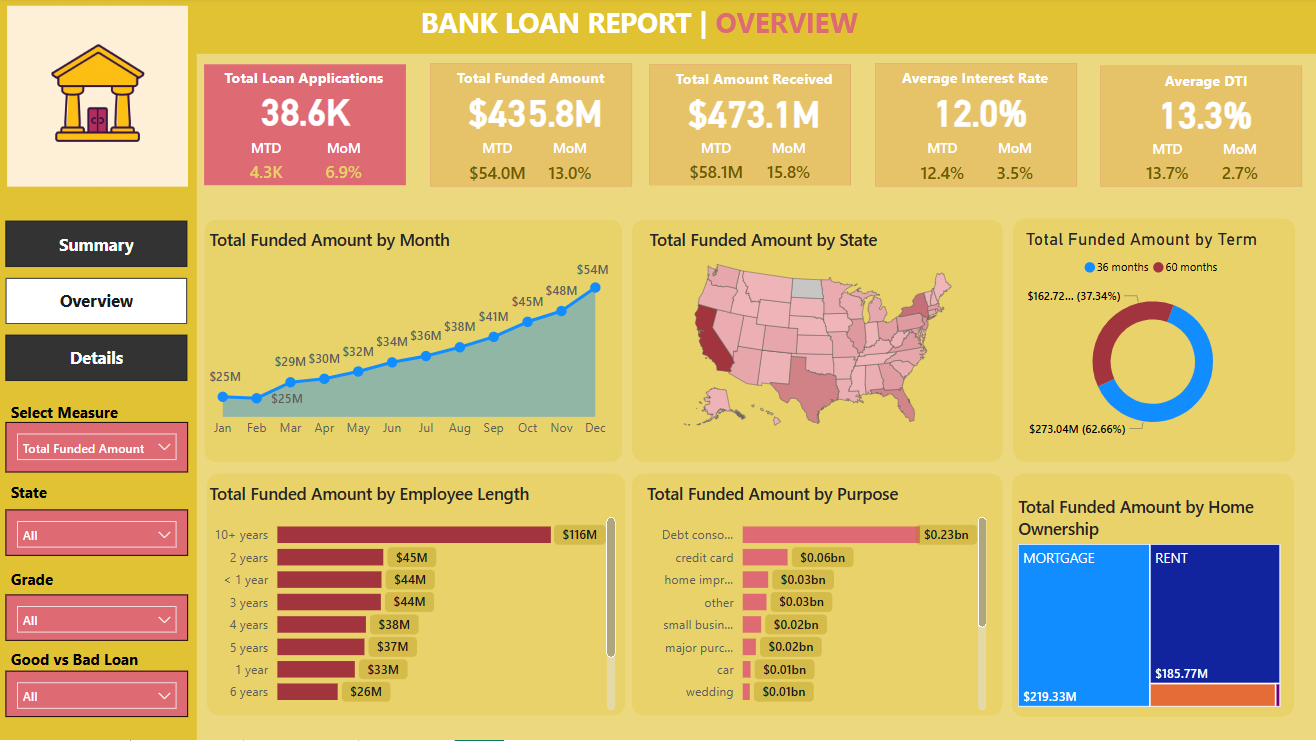

The dashboard page shown, as its layout file describes it:
{"tool":"powerbi","page":{"name":"Overview","canvas":[1280,720],"ordinal":1},"visuals":[{"type":"shape","box":[0,0,1280.3,55],"z":0},{"type":"shape","box":[418.8,64.2,195,119.3],"z":0,"group":"g2"},{"type":"shape","box":[849.8,64.2,195,119.3],"z":0,"group":"g4"},{"type":"shape","box":[199.7,65.3,195,117],"z":0,"group":"g1"},{"type":"shape","box":[630.7,65.5,195,117],"z":0,"group":"g3"},{"type":"shape","box":[1067.7,66.6,195,117],"z":0,"group":"g5"},{"type":"shape","box":[0,54.5,192.5,665.8],"z":1000},{"type":"card","fields":{"Values":["bank_loan_data.Total Loan Applications"]},"box":[231.2,81.1,133.2,55.7],"z":1000,"group":"g1"},{"type":"card","fields":{"Values":["bank_loan_data.Total Funded Amount"]},"box":[449.9,83.9,140.4,53.1],"z":1000,"group":"g2"},{"type":"card","fields":{"Values":["bank_loan_data.Average Interest Rate"]},"box":[880.9,83.9,140.4,53.1],"z":1000,"group":"g4"},{"type":"card","fields":{"Values":["bank_loan_data.Total Amount Received"]},"box":[661.8,84.8,140.4,52.1],"z":1000,"group":"g3"},{"type":"card","fields":{"Values":["bank_loan_data.AVG DTI"]},"box":[1098.8,85.9,140.4,52.1],"z":1000,"group":"g5"},{"type":"textbox","box":[214.2,62.9,180.4,35.1],"z":2000,"group":"g1"},{"type":"textbox","box":[439,62.9,180.4,35.8],"z":2000,"group":"g2"},{"type":"textbox","box":[870,62.9,180.4,35.8],"z":2000,"group":"g4"},{"type":"textbox","box":[650.9,64.2,180.4,35.1],"z":2000,"group":"g3"},{"type":"textbox","box":[1115.5,67.1,110.2,30.3],"z":2000,"group":"g5"},{"type":"shape","box":[199.7,215.5,405,235],"z":2000},{"type":"textbox","box":[404.3,1.2,472.1,53.3],"z":3000},{"type":"card","title":"MTD","fields":{"Values":["bank_loan_data.MTD Loan Applications"]},"box":[230.6,136.7,56.9,52.1],"z":3000,"group":"g1"},{"type":"card","title":"MTD","fields":{"Values":["bank_loan_data.MTD Amount Received"]},"box":[661.8,136.8,66.6,52.1],"z":3000,"group":"g3"},{"type":"card","title":"MTD","fields":{"Values":["bank_loan_data.MTD Funded Amount"]},"box":[449.9,136.9,66.6,53.1],"z":3000,"group":"g2"},{"type":"card","title":"MTD","fields":{"Values":["bank_loan_data.MTD Avg Interest Rate"]},"box":[880.9,136.9,66.6,53.1],"z":3000,"group":"g4"},{"type":"card","title":"MTD","fields":{"Values":["bank_loan_data.MTD Avg DTI"]},"box":[1098.8,138,66.6,52.1],"z":3000,"group":"g5"},{"type":"group","id":"g1","title":"Group 1","box":[199.7,62.9,194.9,125.9],"z":4000},{"type":"card","title":"MoM","fields":{"Values":["bank_loan_data.MoM Loan Applications"]},"box":[304.4,136.7,59.3,52.1],"z":4000,"group":"g1"},{"type":"card","title":"MoM","fields":{"Values":["bank_loan_data.MoM Total Amount Received"]},"box":[735.4,136.8,59.3,52.1],"z":4000,"group":"g3"},{"type":"card","title":"MoM","fields":{"Values":["bank_loan_data.MoM Funded Amount"]},"box":[523.5,136.9,59.3,53.1],"z":4000,"group":"g2"},{"type":"card","title":"MoM","fields":{"Values":["bank_loan_data.MoM Avg Interest Rate"]},"box":[954.5,136.9,59.3,53.1],"z":4000,"group":"g4"},{"type":"card","title":"MoM","fields":{"Values":["bank_loan_data.MoM Avg DTI"]},"box":[1172.4,138,59.3,52.1],"z":4000,"group":"g5"},{"type":"group","id":"g2","title":"Group 1","box":[418.8,62.9,200.9,127.1],"z":5000},{"type":"group","id":"g3","title":"Group 1","box":[630.7,64.2,200.9,124.7],"z":6000},{"type":"group","id":"g4","title":"Group 1","box":[849.8,62.9,200.9,127.1],"z":7000},{"type":"group","id":"g5","title":"Group 1","box":[1067.7,66.6,194.9,123.5],"z":8000},{"type":"areaChart","fields":{"Y":["bank_loan_data.Total Funded Amount"],"Category":["Date Table.Month"]},"box":[199.7,223.9,397,211.8],"z":9000},{"type":"shape","box":[613.7,215.5,359.5,234.8],"z":10000},{"type":"shapeMap","fields":{"Value":["bank_loan_data.Total Funded Amount"],"Category":["bank_loan_data.address_state"]},"box":[625.8,223.9,336.5,204.6],"z":11000},{"type":"shape","box":[982.9,214.3,273.6,236],"z":12000},{"type":"donutChart","fields":{"Y":["bank_loan_data.Total Funded Amount"],"Category":["bank_loan_data.term"]},"box":[990.2,223.9,256.6,211.8],"z":13000},{"type":"shape","box":[202.2,461.2,405.5,234.8],"z":14000},{"type":"barChart","fields":{"Y":["bank_loan_data.Total Funded Amount"],"Category":["bank_loan_data.emp_length"]},"box":[199.7,469.7,403.1,226.4],"z":15000},{"type":"shape","box":[613.7,461.2,359.5,234.8],"z":16000},{"type":"barChart","fields":{"Y":["bank_loan_data.Total Funded Amount"],"Category":["bank_loan_data.purpose"]},"box":[623.4,469.7,338.9,226.4],"z":17000},{"type":"shape","box":[981.7,461.2,273.6,236],"z":18000},{"type":"treemap","fields":{"Values":["bank_loan_data.Total Funded Amount"],"Group":["bank_loan_data.home_ownership"]},"box":[982.9,481.8,263.9,210.6],"z":19000},{"type":"slicer","fields":{"Values":["bank_loan_data.Good vs Bad Loan"]},"box":[7.3,652.5,176.7,44.8],"z":20000},{"type":"textbox","box":[7.3,625.8,159.8,37.5],"z":21000},{"type":"slicer","fields":{"Values":["bank_loan_data.address_state"]},"box":[7.3,496.3,176.7,44.8],"z":22000},{"type":"textbox","box":[7.3,464.8,53.3,41.2],"z":23000},{"type":"slicer","fields":{"Values":["bank_loan_data.grade"]},"box":[7.3,578.6,176.7,44.8],"z":24000},{"type":"textbox","box":[7.3,548.4,79.9,42.4],"z":25000},{"type":"slicer","fields":{"Values":["Select Measure.Select Measure"]},"box":[7.3,411.6,176.7,48.4],"z":26000},{"type":"textbox","box":[7.3,387.4,142.8,37.5],"z":27000},{"type":"pageNavigator","box":[7.3,216.7,176.7,157.4],"z":28000},{"type":"image","box":[0,8.5,192.5,175.5],"z":29000}]}

Visuals, with their boxes in screenshot pixels (x1, y1, x2, y2), scaled from the page's 1280x720 canvas onto the 1316x741 screenshot:
shape: [0,0,1315,57]
shape: [431,66,631,189]
shape: [874,66,1074,189]
shape: [205,67,406,188]
shape: [648,67,849,188]
shape: [1098,69,1298,189]
shape: [0,56,198,740]
card - bank_loan_data.Total Loan Applications: [238,83,375,141]
card - bank_loan_data.Total Funded Amount: [463,86,607,141]
card - bank_loan_data.Average Interest Rate: [906,86,1050,141]
card - bank_loan_data.Total Amount Received: [680,87,825,141]
card - bank_loan_data.AVG DTI: [1130,88,1274,142]
textbox: [220,65,406,101]
textbox: [451,65,637,102]
textbox: [894,65,1080,102]
textbox: [669,66,855,102]
textbox: [1147,69,1260,100]
shape: [205,222,622,464]
textbox: [416,1,901,56]
"MTD" card: [237,141,296,194]
"MTD" card: [680,141,749,194]
"MTD" card: [463,141,531,196]
"MTD" card: [906,141,974,196]
"MTD" card: [1130,142,1198,196]
"Group 1" group: [205,65,406,194]
"MoM" card: [313,141,374,194]
"MoM" card: [756,141,817,194]
"MoM" card: [538,141,599,196]
"MoM" card: [981,141,1042,196]
"MoM" card: [1205,142,1266,196]
"Group 1" group: [431,65,637,196]
"Group 1" group: [648,66,855,194]
"Group 1" group: [874,65,1080,196]
"Group 1" group: [1098,69,1298,196]
areaChart - bank_loan_data.Total Funded Amount x Date Table.Month: [205,230,613,448]
shape: [631,222,1001,463]
shapeMap - bank_loan_data.Total Funded Amount x bank_loan_data.address_state: [643,230,989,441]
shape: [1011,221,1292,463]
donutChart - bank_loan_data.Total Funded Amount x bank_loan_data.term: [1018,230,1282,448]
shape: [208,475,625,716]
barChart - bank_loan_data.Total Funded Amount x bank_loan_data.emp_length: [205,483,620,716]
shape: [631,475,1001,716]
barChart - bank_loan_data.Total Funded Amount x bank_loan_data.purpose: [641,483,989,716]
shape: [1009,475,1291,718]
treemap - bank_loan_data.Total Funded Amount x bank_loan_data.home_ownership: [1011,496,1282,713]
slicer - bank_loan_data.Good vs Bad Loan: [8,672,189,718]
textbox: [8,644,172,683]
slicer - bank_loan_data.address_state: [8,511,189,557]
textbox: [8,478,62,521]
slicer - bank_loan_data.grade: [8,595,189,642]
textbox: [8,564,90,608]
slicer - Select Measure.Select Measure: [8,424,189,473]
textbox: [8,399,154,437]
pageNavigator: [8,223,189,385]
image: [0,9,198,189]
